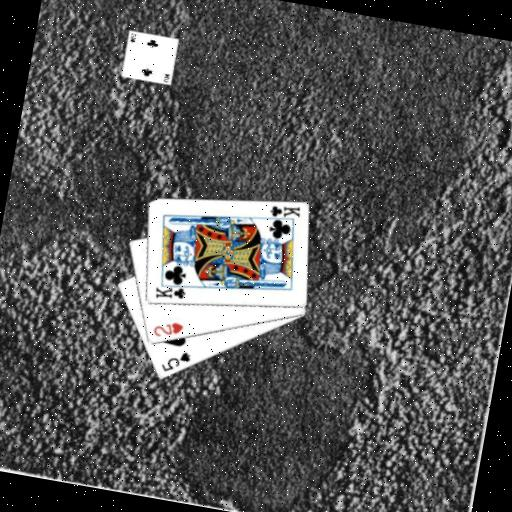2H: (149, 315, 186, 342)
5S: (157, 345, 193, 377)
KC: (151, 276, 191, 304), (262, 198, 302, 226)
